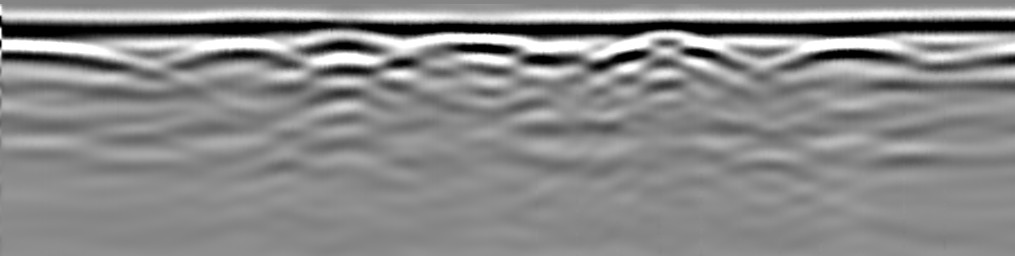steel: (772, 36, 934, 69), (585, 36, 740, 65), (2, 39, 140, 71), (169, 38, 311, 67), (407, 36, 529, 60), (299, 34, 392, 56)
